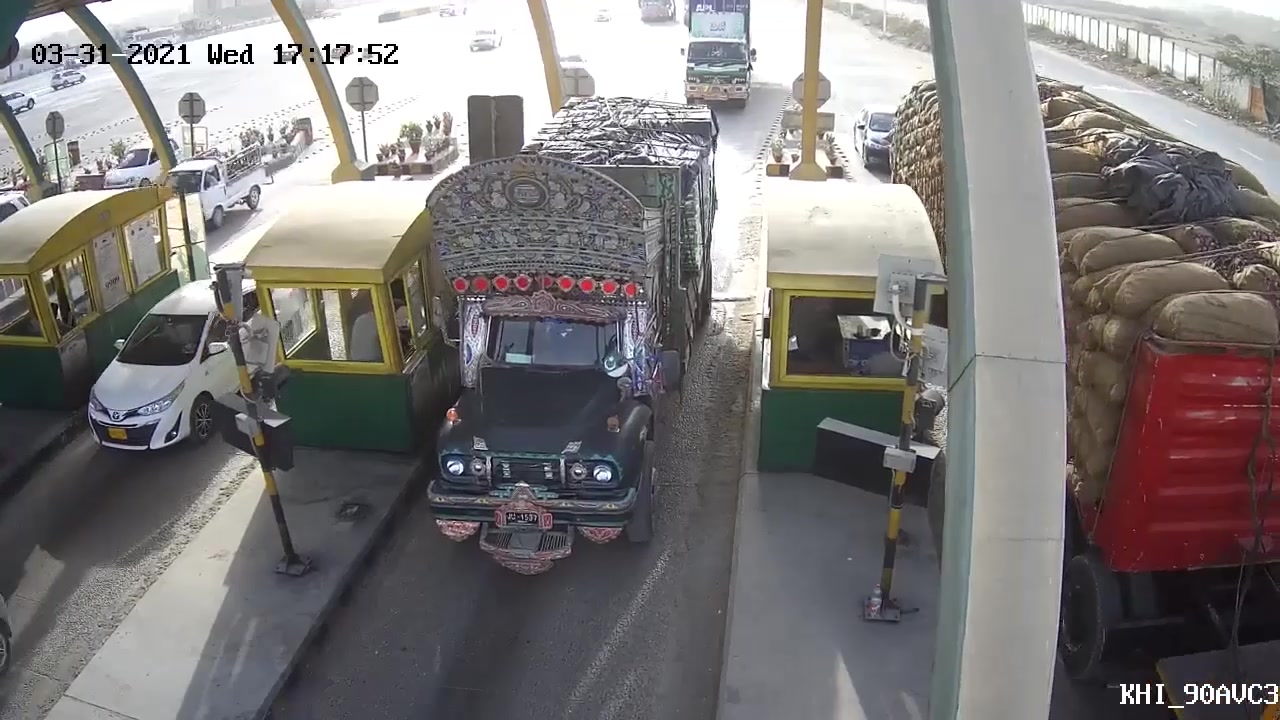F5: (409, 95, 722, 582)
